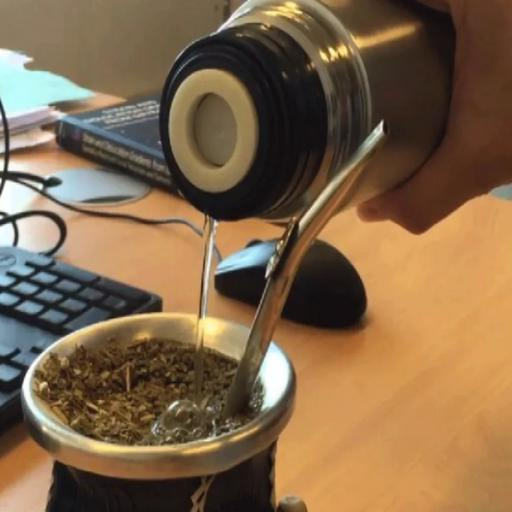mate: (22, 314, 307, 511)
termo: (159, 0, 454, 222)
